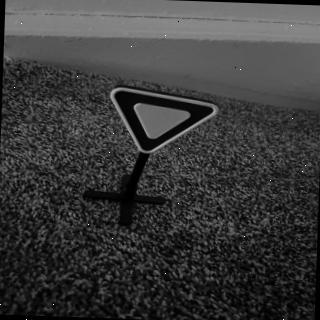sign_yield: (110, 88, 222, 162)
